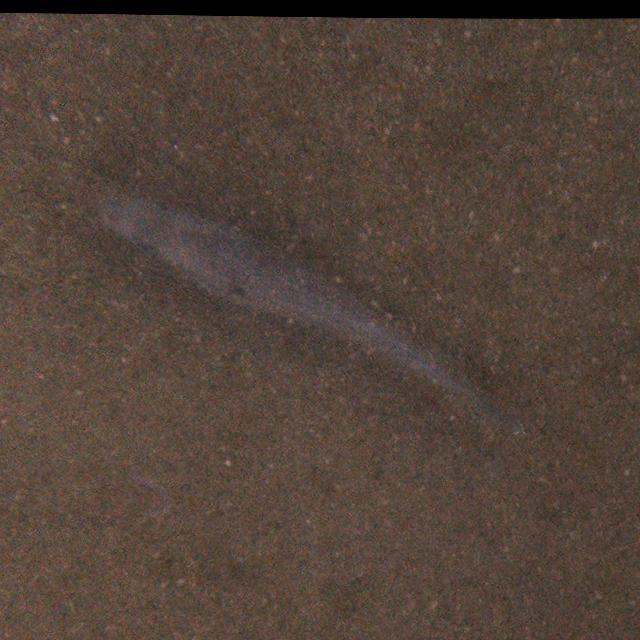roundfish: (98, 182, 513, 436)
